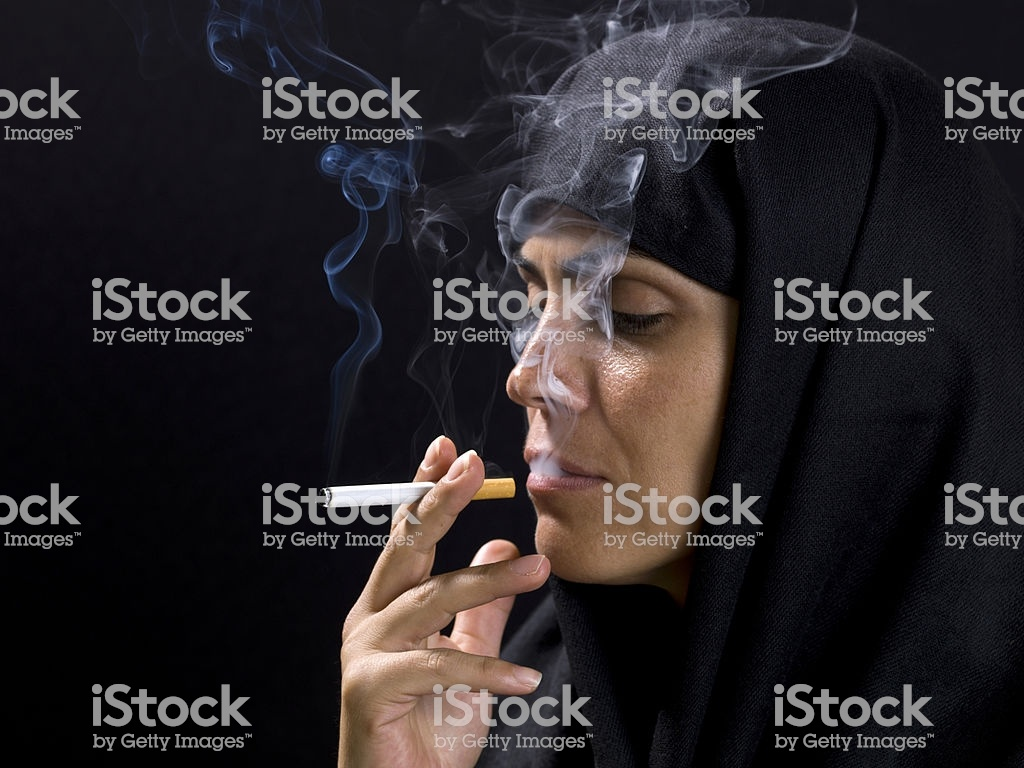sigaretta: (304, 476, 524, 502)
